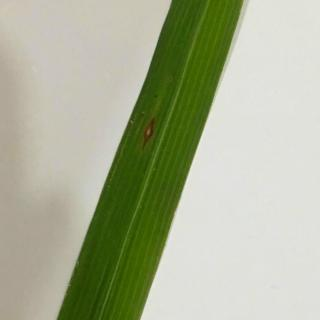Blast: (136, 106, 166, 157)
